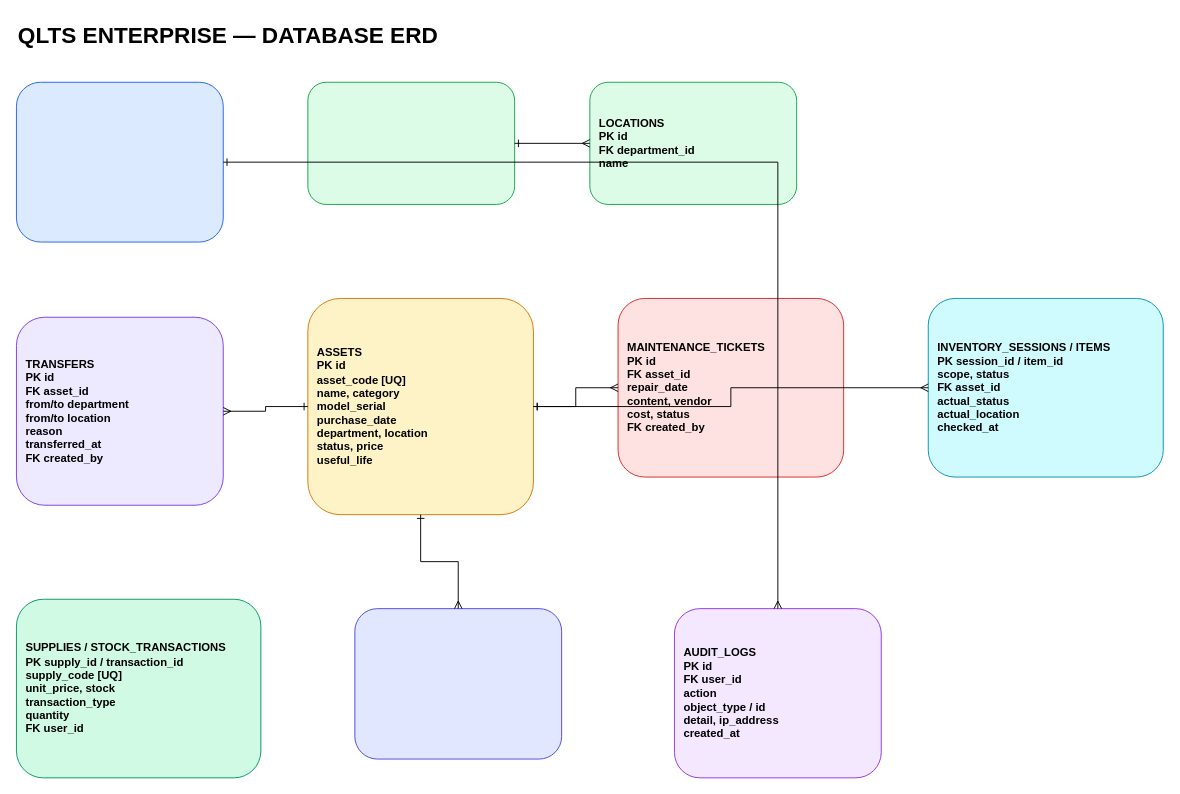
This 1180x794 diagram has some shape labels left out. Each missing label, with the centre of its shape:
DEPARTMENTS PK id code [UQ] name: pixel 411 142
DOCUMENTS PK id name, file_path mime_type FK asset_id FK uploaded_by: pixel 458 683
USERS PK id username [UQ] password_hash full_name role FK department_id: pixel 119 161
